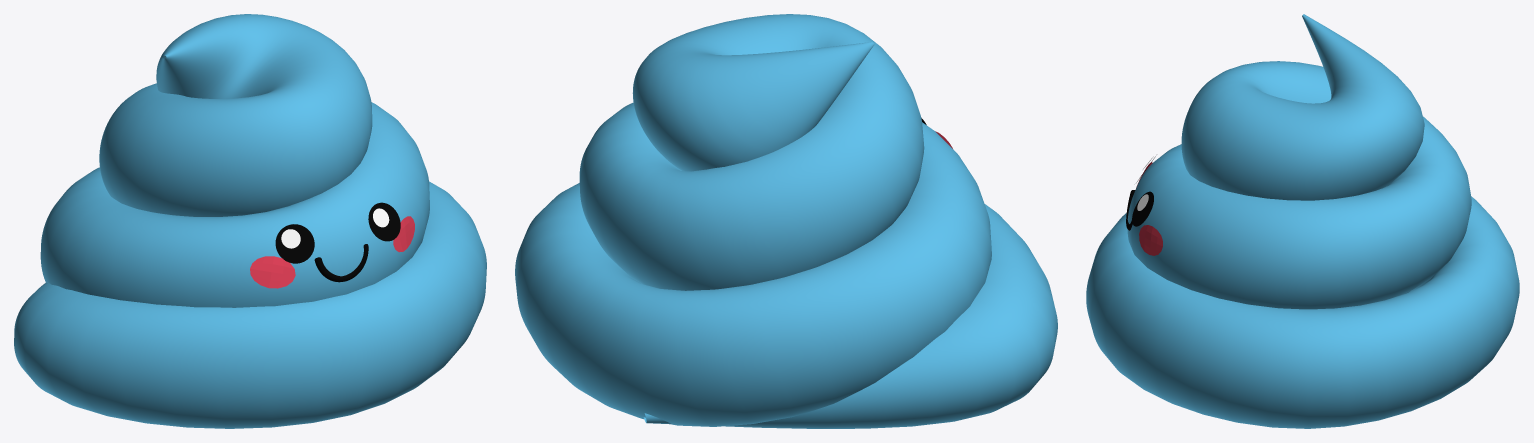
Rendered from poopy3.fbx.
3 views of the same model, side by side, from view 1: azimuth 30°, elevation 25°; view 2: azimuth 150°, elevation 25°; view 3: azimuth 270°, elevation 25° (orthographic). The views are drawn at different scales.
Visible parts, largest first — view 1: Spiral.002, Plane.008, Circle.008, Circle.009, Torus.004, Plane.007; view 2: Spiral.002; view 3: Spiral.002, Plane.007.
Boxes of the visible parts, bbox=[...] form: Spiral.002: bbox=[14, 14, 486, 428]; Plane.008: bbox=[250, 256, 295, 288]; Circle.008: bbox=[275, 224, 314, 263]; Circle.009: bbox=[368, 202, 400, 241]; Torus.004: bbox=[314, 244, 368, 282]; Plane.007: bbox=[393, 216, 414, 252]; Spiral.002: bbox=[515, 14, 1057, 428]; Spiral.002: bbox=[1086, 14, 1519, 428]; Plane.007: bbox=[1139, 225, 1162, 255].
Size of the model in its own units: 387 by 260 by 342.
